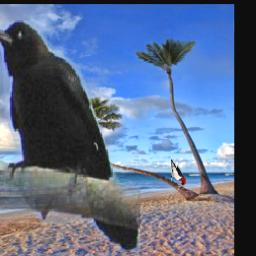Crow: (0, 20, 140, 252)
Woodpecker: (171, 158, 187, 188)
